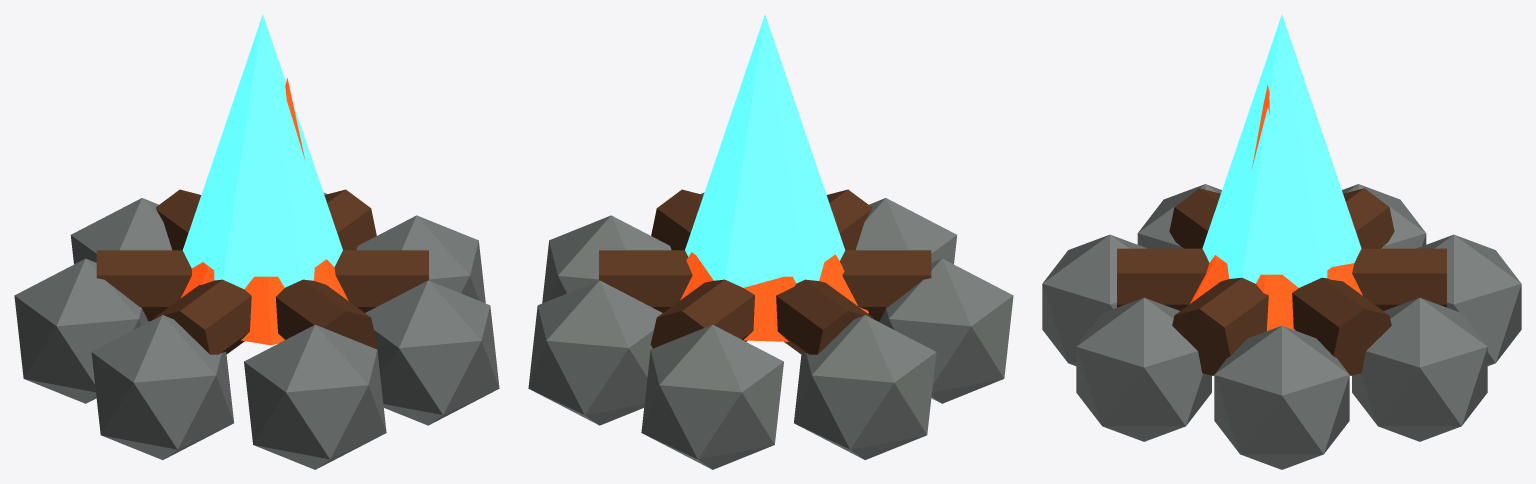
The model's file is env_watchfire.glb.
The picture shows the model from 3 angles, left to right: view 1: azimuth 30°, elevation 25°; view 2: azimuth 150°, elevation 25°; view 3: azimuth 270°, elevation 25°; orthographic projection.
Visible parts, largest first — view 1: blue flame outer, watchfire stone.005, watchfire stone.004, watchfire stone.006, watchfire stone.003, charred log.001, charred log.002, charred log, watchfire stone, watchfire stone.002, coal bed; view 2: blue flame outer, watchfire stone.002, watchfire stone.003, watchfire stone.001, watchfire stone.004, charred log.002, charred log.001, charred log, watchfire stone, watchfire stone.005, coal bed; view 3: blue flame outer, watchfire stone, watchfire stone.001, watchfire stone.006, charred log, charred log.002, charred log.001, watchfire stone.002, watchfire stone.005, coal bed, watchfire stone.003, watchfire stone.004.
Part boxes in pixels (bbox=[...]): blue flame outer: bbox=[182, 14, 342, 288]; watchfire stone.005: bbox=[244, 324, 386, 469]; watchfire stone.004: bbox=[91, 315, 233, 459]; watchfire stone.006: bbox=[365, 280, 499, 425]; watchfire stone.003: bbox=[14, 258, 149, 403]; charred log.001: bbox=[96, 250, 428, 321]; charred log.002: bbox=[154, 189, 376, 354]; charred log: bbox=[156, 189, 377, 348]; watchfire stone: bbox=[356, 215, 485, 303]; watchfire stone.002: bbox=[70, 198, 171, 264]; coal bed: bbox=[181, 259, 348, 345]; blue flame outer: bbox=[685, 14, 845, 287]; watchfire stone.002: bbox=[641, 324, 783, 469]; watchfire stone.003: bbox=[794, 315, 936, 459]; watchfire stone.001: bbox=[528, 280, 662, 425]; watchfire stone.004: bbox=[878, 258, 1013, 403]; charred log.002: bbox=[599, 250, 931, 321]; charred log.001: bbox=[651, 189, 873, 354]; charred log: bbox=[650, 189, 871, 348]; watchfire stone: bbox=[542, 215, 671, 303]; watchfire stone.005: bbox=[856, 198, 957, 264]; coal bed: bbox=[680, 252, 868, 341]; blue flame outer: bbox=[1202, 14, 1361, 287]; watchfire stone: bbox=[1214, 326, 1349, 469]; watchfire stone.001: bbox=[1352, 297, 1487, 441]; watchfire stone.006: bbox=[1076, 297, 1211, 441]; charred log: bbox=[1117, 248, 1446, 310]; charred log.002: bbox=[1169, 188, 1391, 375]; charred log.001: bbox=[1172, 188, 1394, 375]; watchfire stone.002: bbox=[1416, 234, 1521, 365]; watchfire stone.005: bbox=[1042, 234, 1147, 365]; coal bed: bbox=[1190, 255, 1362, 330]; watchfire stone.003: bbox=[1342, 184, 1426, 248]; watchfire stone.004: bbox=[1137, 184, 1221, 248].
Size of the model in its own units: 0.8397 by 0.74 by 0.8426.
